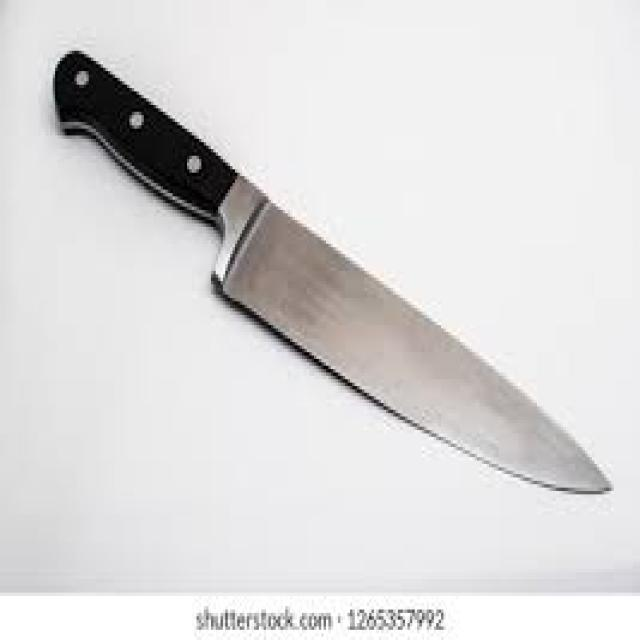Knife: (51, 48, 612, 494)
